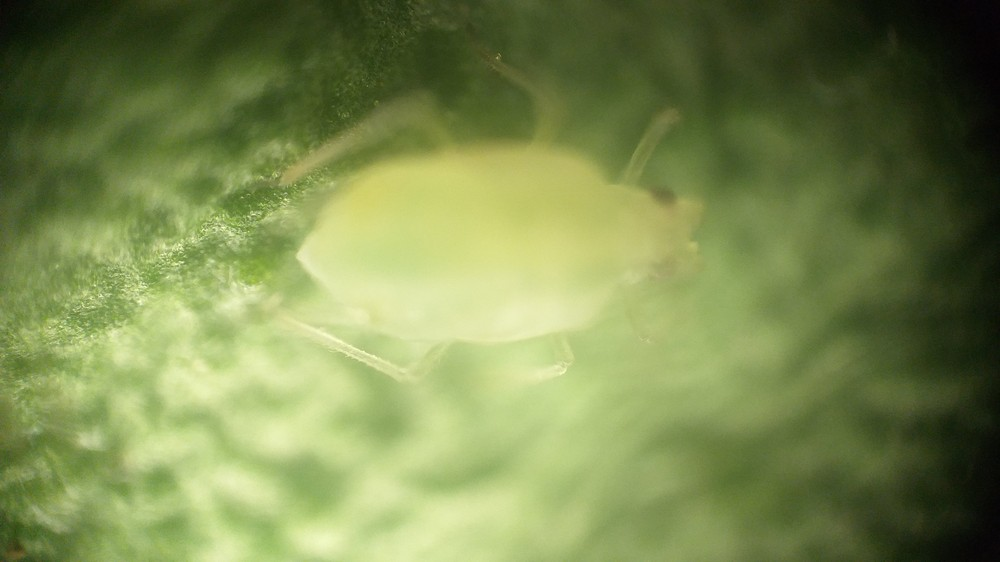Pulgon: (258, 48, 742, 426)
